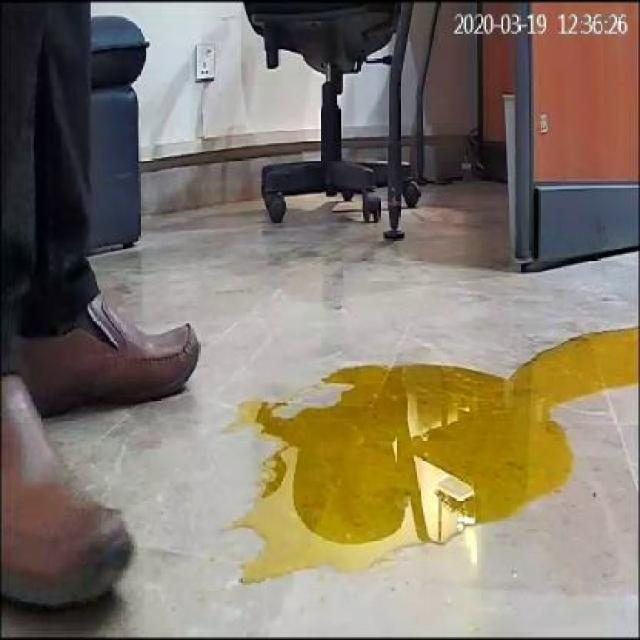spill: (234, 318, 638, 584)
